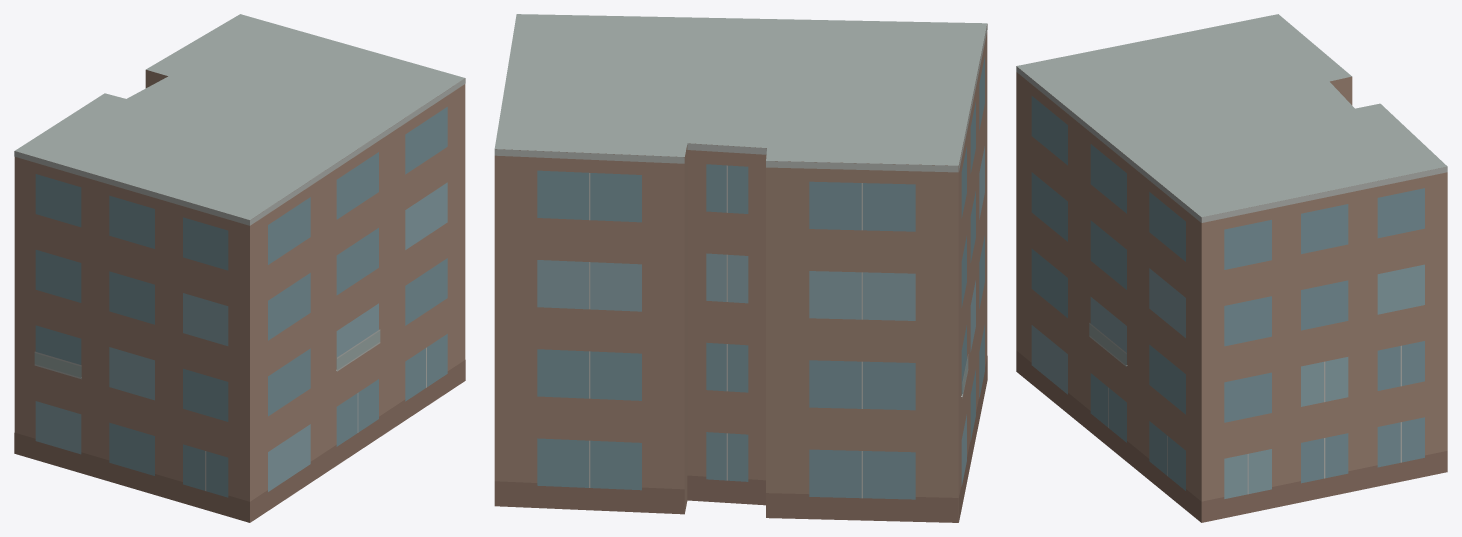
File: survey-upis-32740660.glb
3 renders of one model, left to right at view 1: azimuth 30°, elevation 25°; view 2: azimuth 150°, elevation 25°; view 3: azimuth 270°, elevation 25°, orthographic. The views are drawn at different scales.
Visible parts, largest first — view 1: survey-upis-32740660.tmp; view 2: survey-upis-32740660.tmp; view 3: survey-upis-32740660.tmp.
Boxes of the visible parts, x1=… form: survey-upis-32740660.tmp: x1=14, y1=14, x2=465, y2=522; survey-upis-32740660.tmp: x1=494, y1=14, x2=987, y2=522; survey-upis-32740660.tmp: x1=1016, y1=14, x2=1447, y2=522.
Bounding box in the file's own units: 18.56 × 13 × 16.64.
